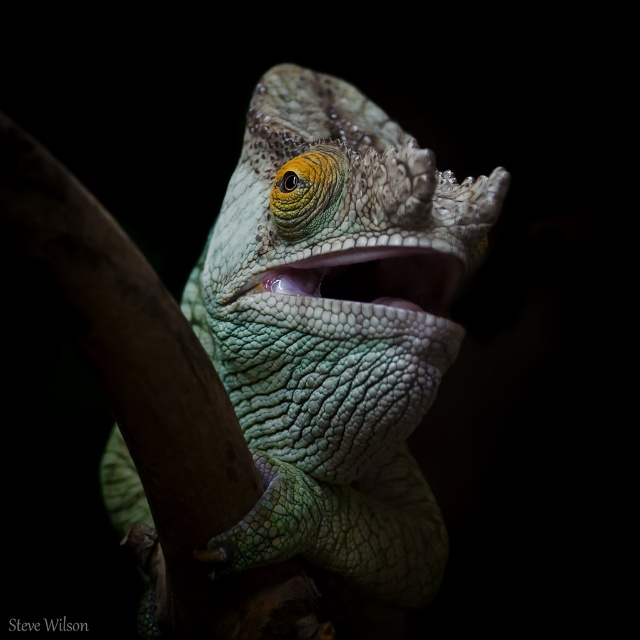Lizard: (172, 46, 526, 640)
